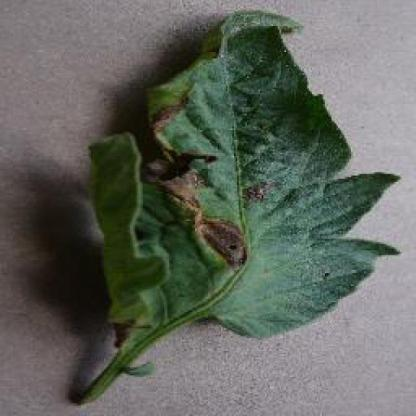Tomato_Blight: (86, 10, 398, 346)
